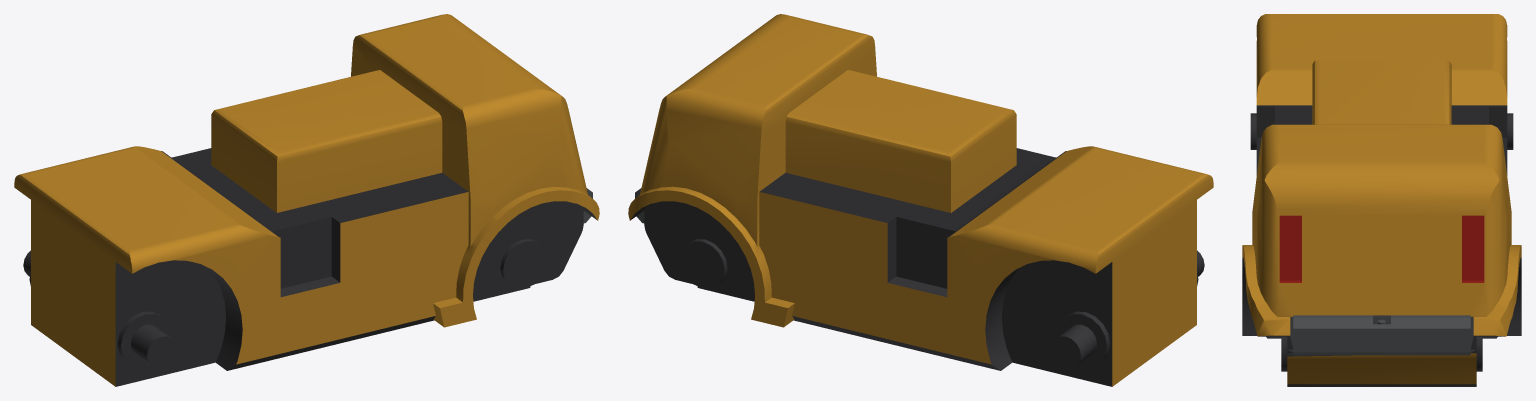
Rendered from forklift-chassis-unit.glb.
The picture shows the model from 3 angles, left to right: view 1: azimuth 30°, elevation 25°; view 2: azimuth 150°, elevation 25°; view 3: azimuth 270°, elevation 25°; orthographic projection. The views are drawn at different scales.
Parts seen in each view (by area): view 1: Forklift-chassis-unitBody; view 2: Forklift-chassis-unitBody; view 3: Forklift-chassis-unitBody.
Boxes of the visible parts, box(x1,y1,x2,y2) form: Forklift-chassis-unitBody: box(14, 14, 599, 386); Forklift-chassis-unitBody: box(628, 14, 1213, 386); Forklift-chassis-unitBody: box(1242, 14, 1521, 386).
Size of the model in its own units: 2 by 0.8084 by 0.9537.
